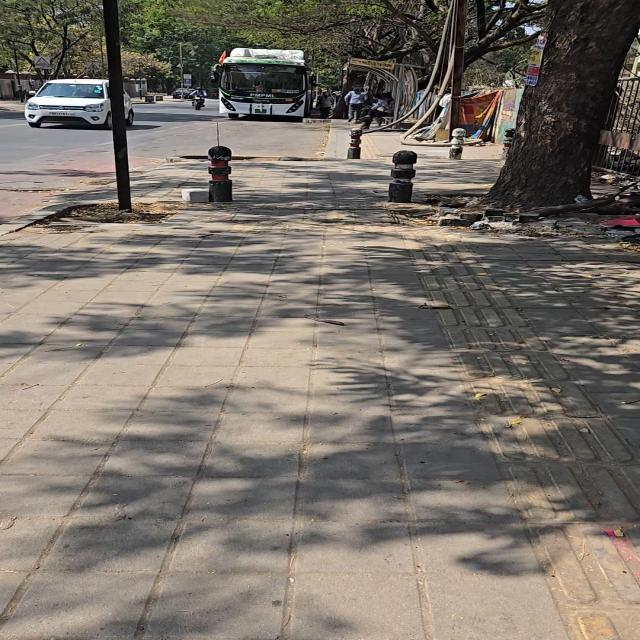bollard: (389, 150, 417, 202), (208, 146, 232, 202), (449, 128, 466, 159), (348, 128, 362, 159), (502, 129, 515, 157), (145, 95, 154, 102), (155, 95, 163, 101)
tree_trunk: (486, 0, 639, 209), (179, 0, 450, 81), (0, 0, 100, 77)
